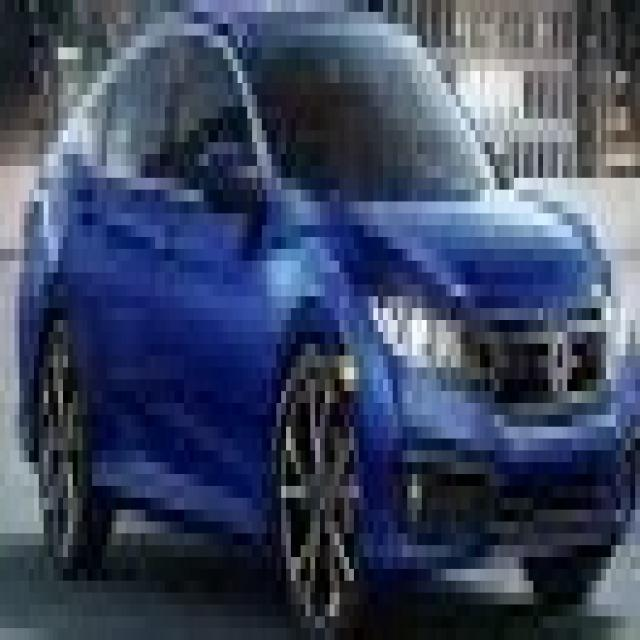blue: (26, 12, 640, 550)
